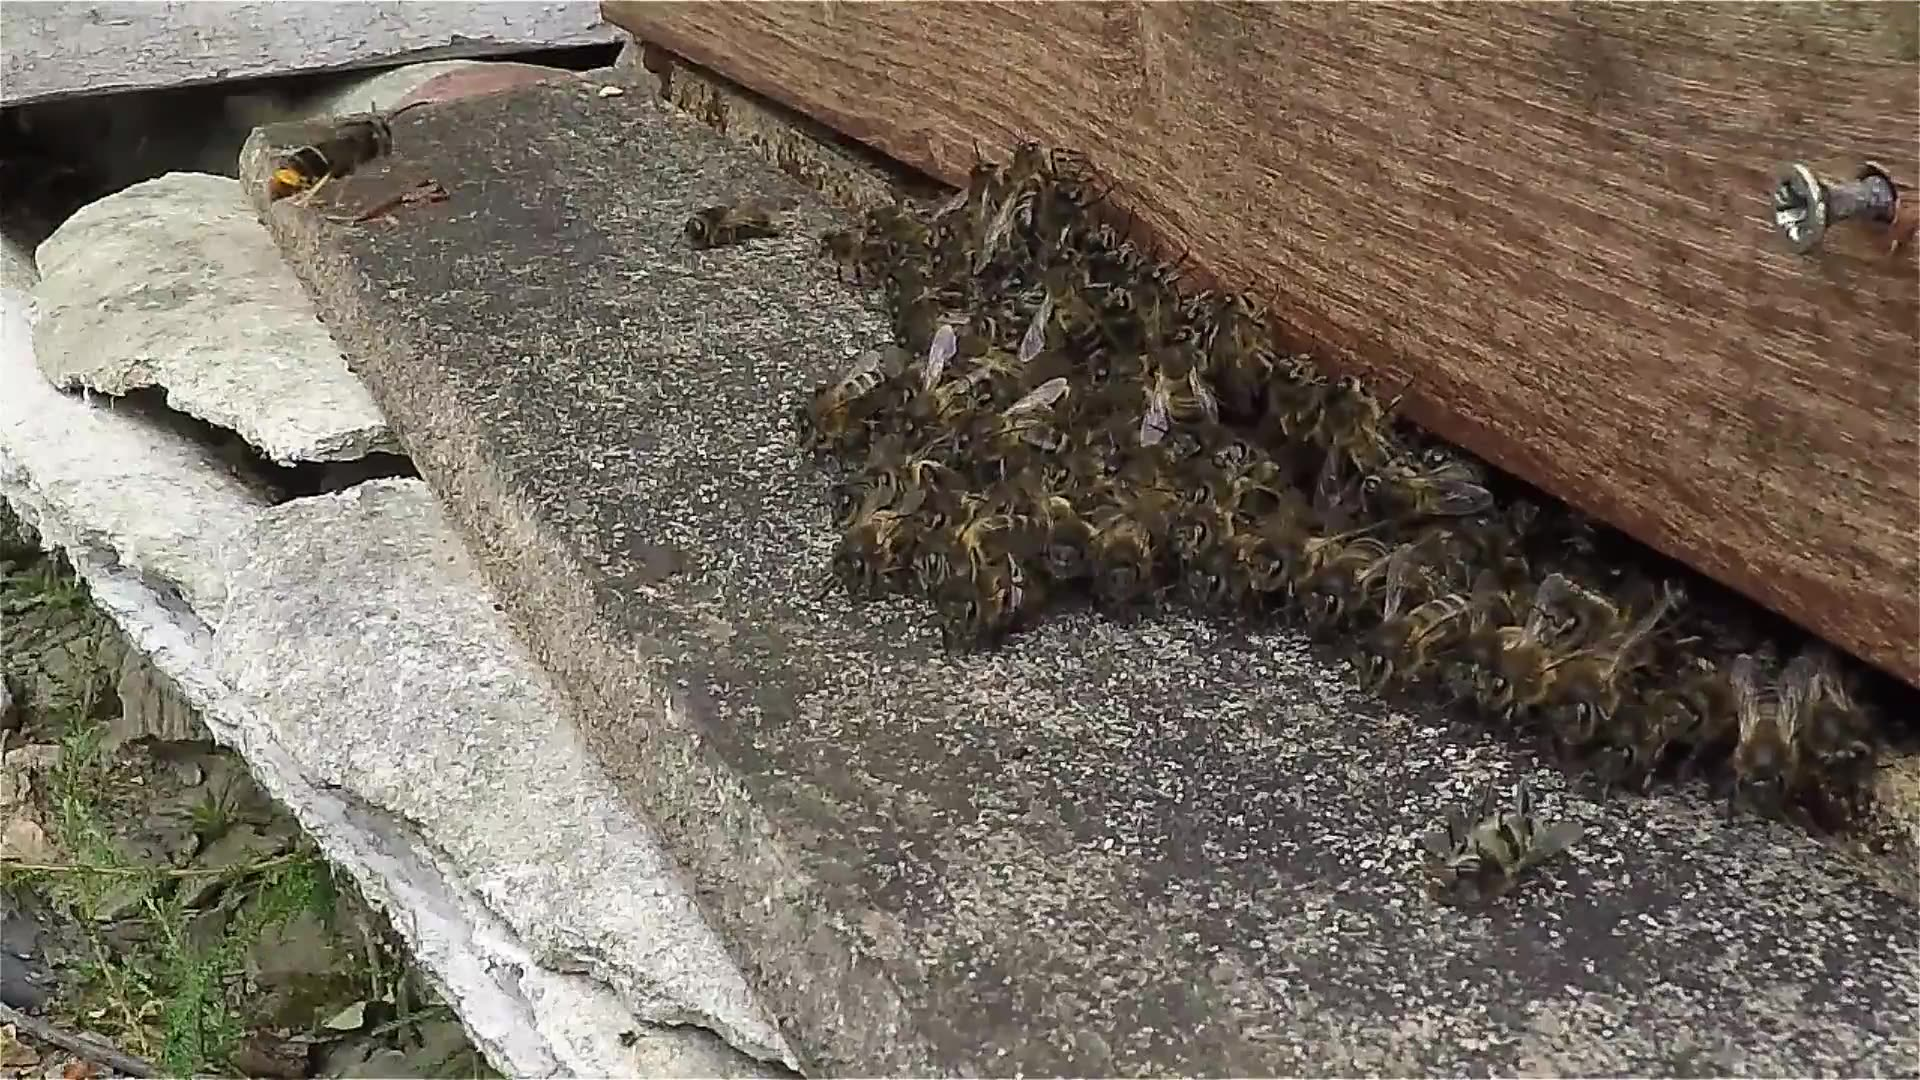bee: (804, 135, 1222, 649), (1225, 282, 1458, 703), (1464, 473, 1710, 791), (1717, 617, 1880, 852), (1418, 789, 1565, 909), (673, 175, 793, 261)
hornet: (258, 111, 415, 219)
